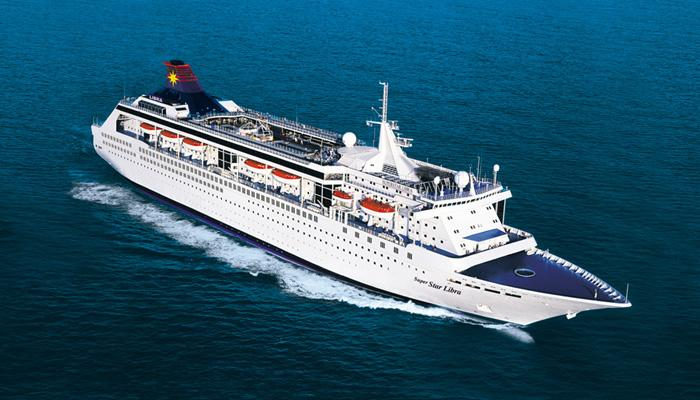youlun: (88, 57, 637, 329)
